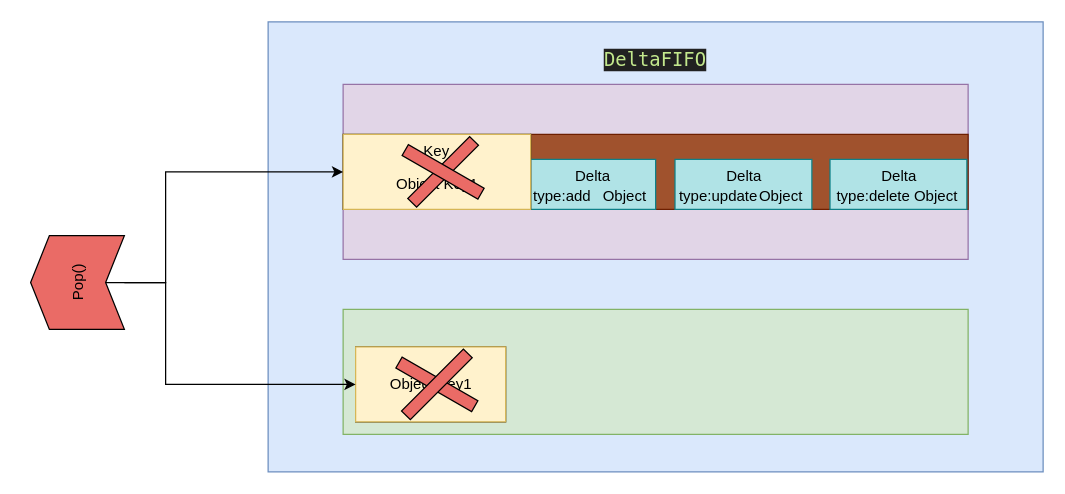
The diagram is 1065 pixels wide and 494 high, and some of its shapes have lost their labels. The shapes that lost their labels are listed below. From the top down, each one's box as (x1, y1, x2, y2) in pixels, then its label:
(342, 83, 968, 259): Items
(529, 133, 968, 209): Deltas
(342, 308, 968, 434): Queue
